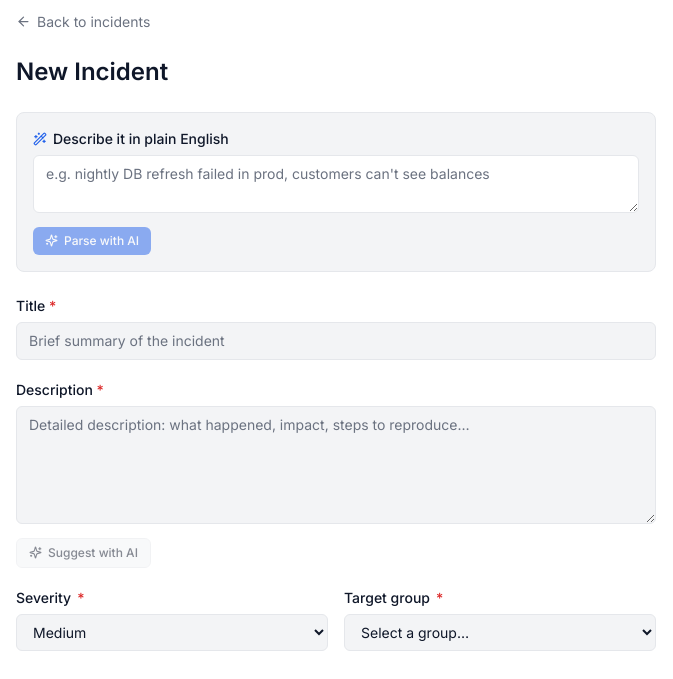
CreateIncidentPage › prefills severity and group with an AI-suggested badge on success
Replace the text in the text box with placeholder "Detailed description" with "Customers cannot see balances after the job failed." at (336, 464), box 16,406 -> 656,524
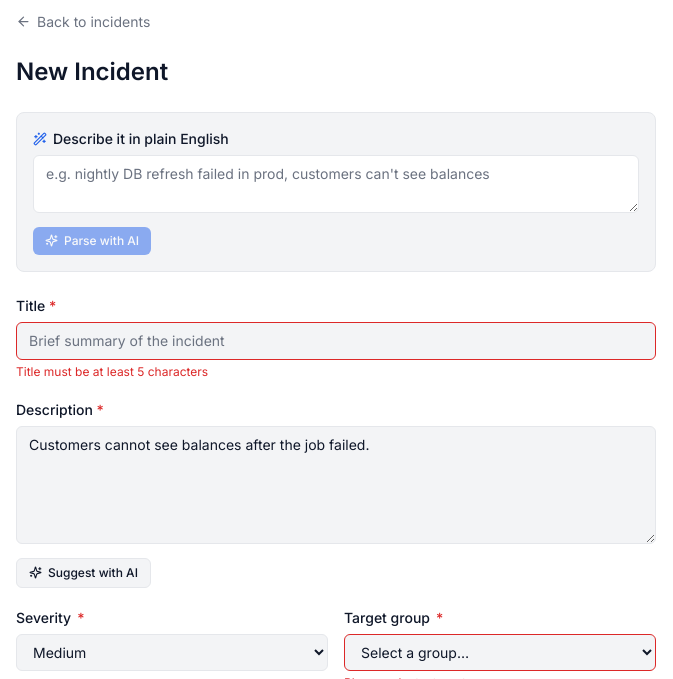
Click the button "Suggest with AI".
click(83, 572)  # box 16,558 -> 151,588
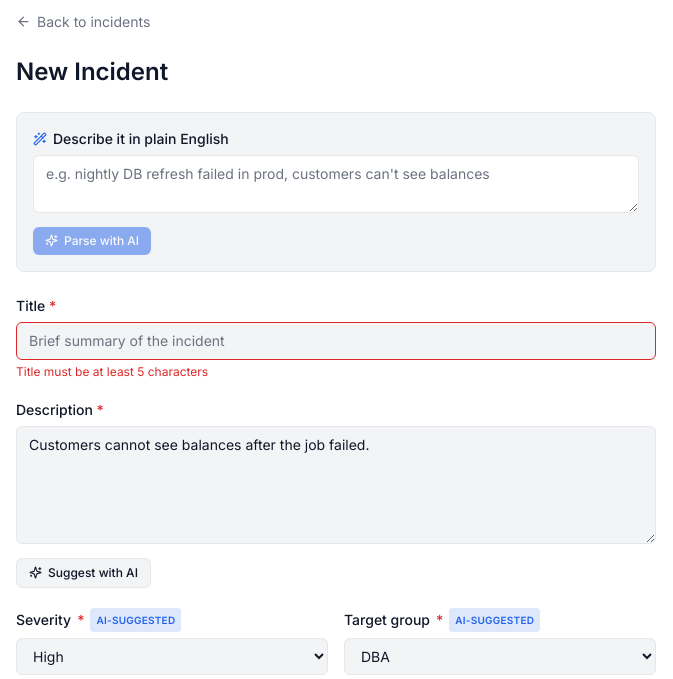
Expected: the text "AI-suggested" is shown 2 times, 90,608 -> 181,632; 449,608 -> 540,632
Expected: the dropdown below "Severity" shows "High", 16,638 -> 328,674
Expected: the dropdown below "Target group" shows "DBA", 344,638 -> 656,674
